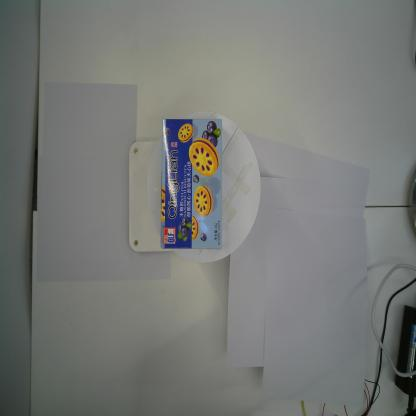Dessert: (160, 117, 224, 250)
